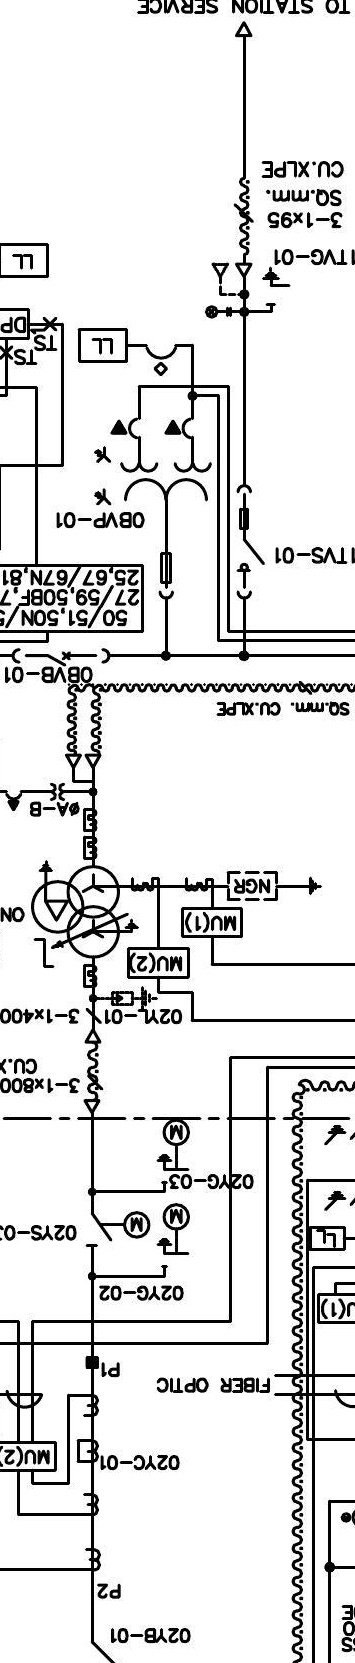11522_tx_ynyn0d1: (30, 864, 121, 959)
115_1way_ds_w_motor: (85, 1210, 152, 1247)
115_gs_w_motor: (156, 1118, 191, 1185), (156, 1202, 191, 1268)
22_breaker: (11, 648, 111, 667)
22_ds: (236, 483, 266, 600)
22_gs: (261, 267, 291, 307)
22_ll: (204, 305, 232, 320)
22_vt_3p: (93, 416, 212, 600)
LL: (77, 327, 129, 364), (309, 1225, 347, 1251)
MU: (127, 946, 190, 980), (180, 907, 244, 939)
NGR_future: (226, 870, 323, 902)
terminator_double: (64, 753, 102, 784)
terminator_single: (234, 20, 254, 38), (84, 1028, 102, 1045), (82, 1099, 101, 1115)
terminator_w_future: (210, 262, 253, 297)
